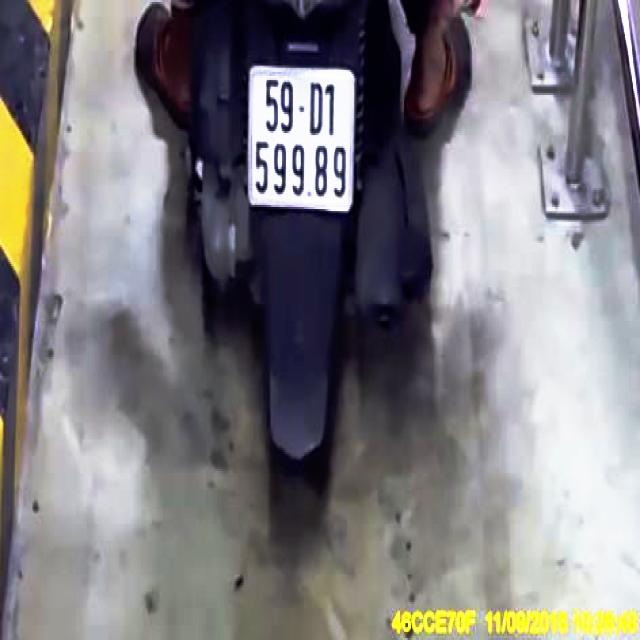license_plate: (251, 66, 355, 210)
